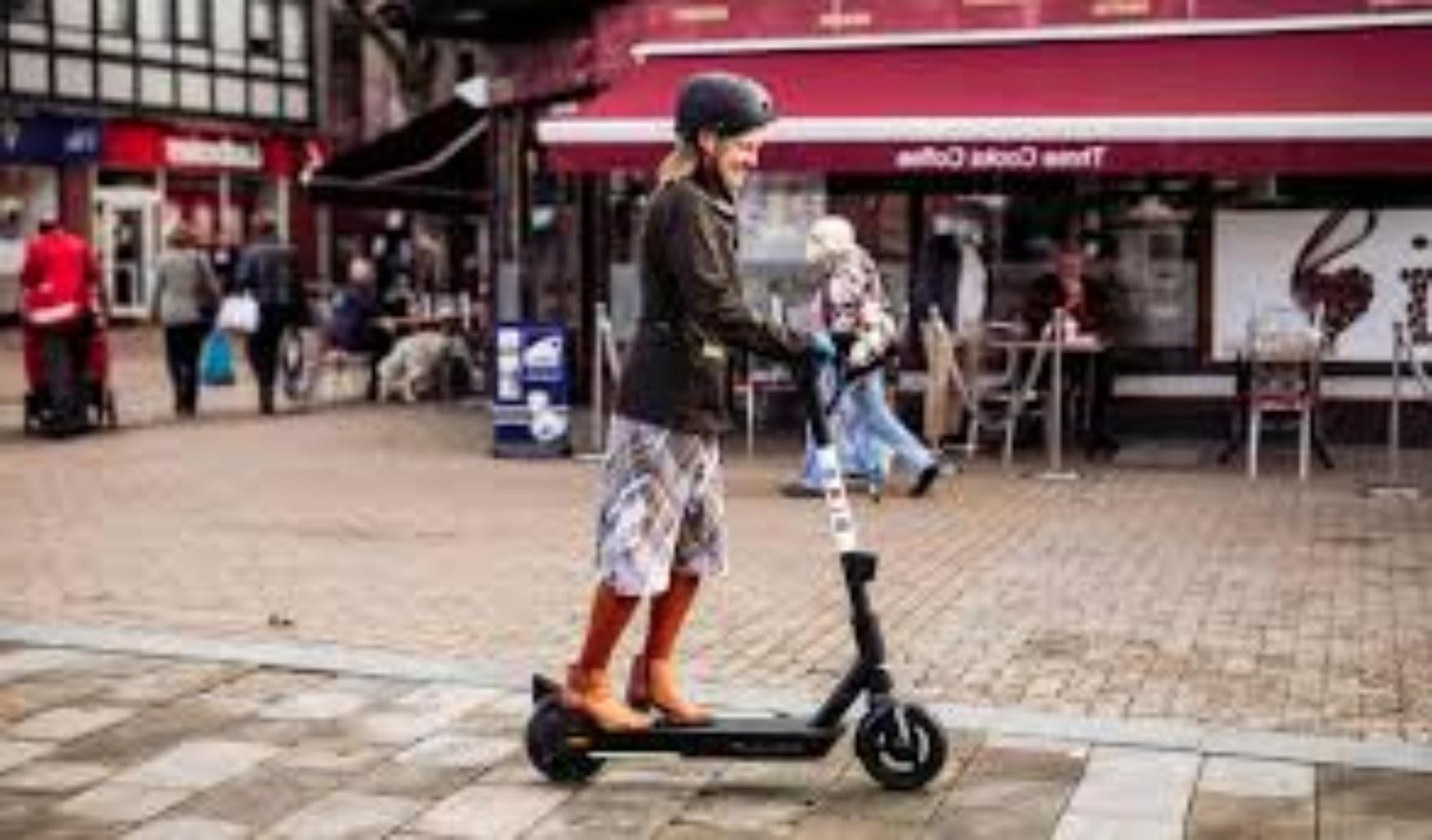helmet: (652, 54, 789, 209)
human: (589, 70, 765, 735)
kickboard: (522, 674, 952, 790)
